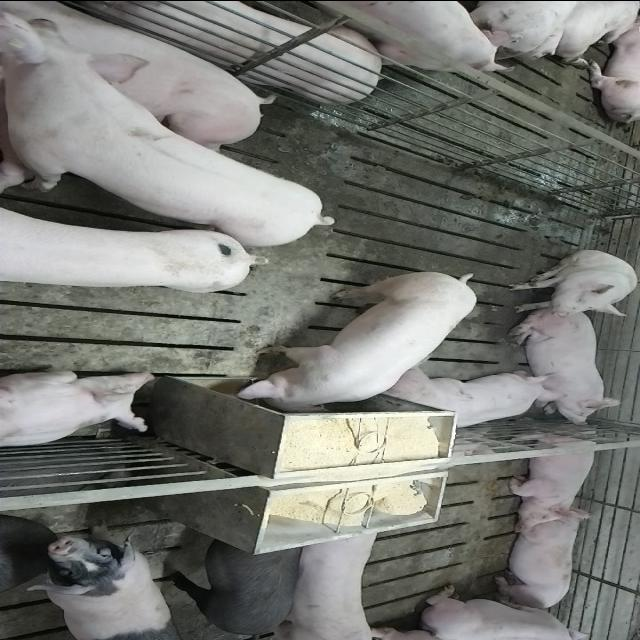Feeding: (234, 266, 478, 410)
Lateral_lying: (0, 0, 270, 150), (56, 0, 385, 102)
Sitting: (506, 250, 638, 318)
Standing: (4, 31, 344, 247), (0, 216, 260, 294), (283, 0, 511, 76), (34, 528, 178, 637), (162, 529, 305, 636), (270, 521, 384, 637)
Sternal_lying: (0, 366, 161, 448), (508, 313, 624, 423), (379, 370, 561, 431), (491, 510, 589, 611), (417, 584, 603, 637), (506, 426, 603, 522)
